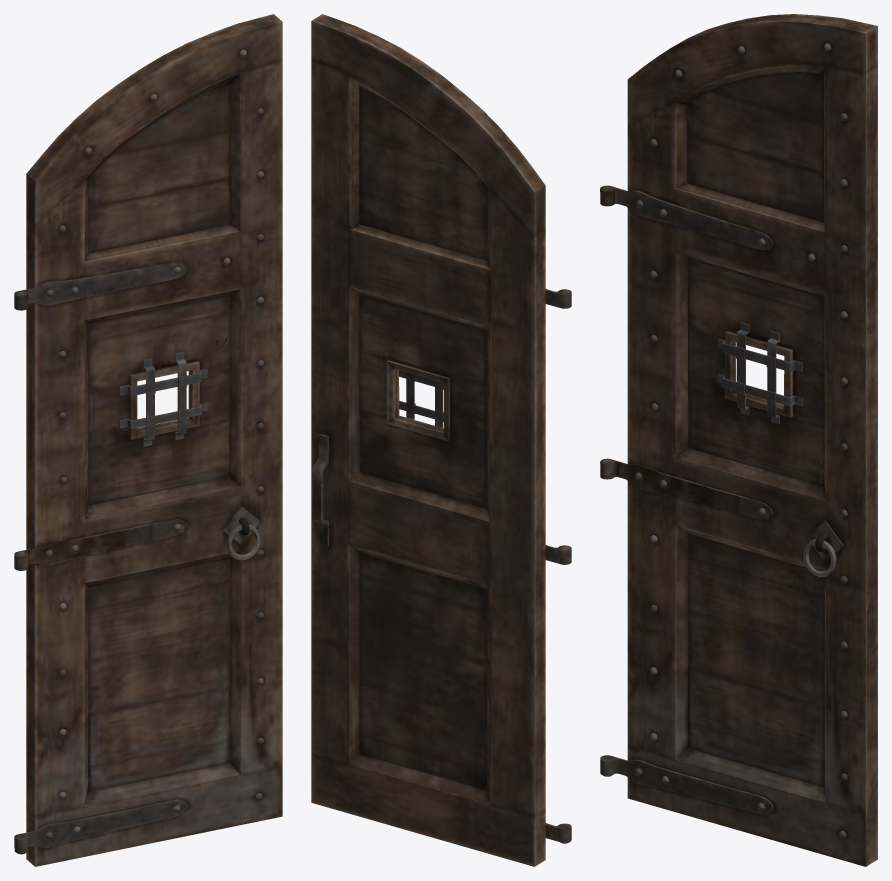
File: odd_door_shield.glb
The picture shows the model from 3 angles, left to right: view 1: azimuth 30°, elevation 25°; view 2: azimuth 150°, elevation 25°; view 3: azimuth 330°, elevation 25°; orthographic projection. The views are drawn at different scales.
Visible parts, largest first — view 1: odd_door_shield; view 2: odd_door_shield; view 3: odd_door_shield.
Boxes of the visible parts, x1,y1,x2,y2 form: odd_door_shield: (14, 14, 282, 866); odd_door_shield: (311, 14, 571, 866); odd_door_shield: (600, 14, 877, 866).
Size of the model in its own units: 0.4804 by 1.4 by 0.0824.
Materials: 1 (1 with a texture image).
